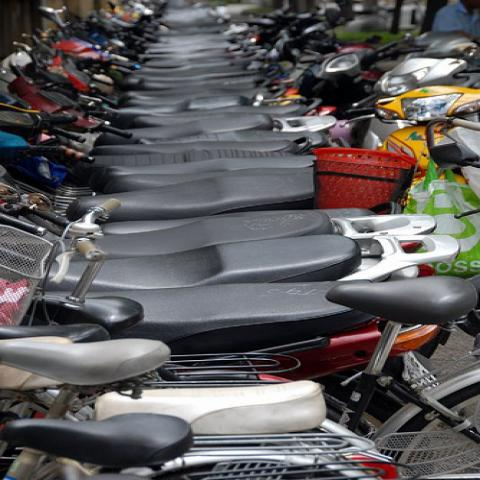motorcycle: (0, 0, 479, 460), (78, 284, 368, 406), (0, 60, 336, 152), (36, 232, 460, 294), (0, 211, 435, 270), (3, 170, 315, 241), (4, 104, 336, 166), (2, 145, 316, 207), (36, 56, 303, 116), (42, 86, 341, 128), (63, 61, 285, 105), (96, 64, 283, 92), (131, 56, 268, 77)
